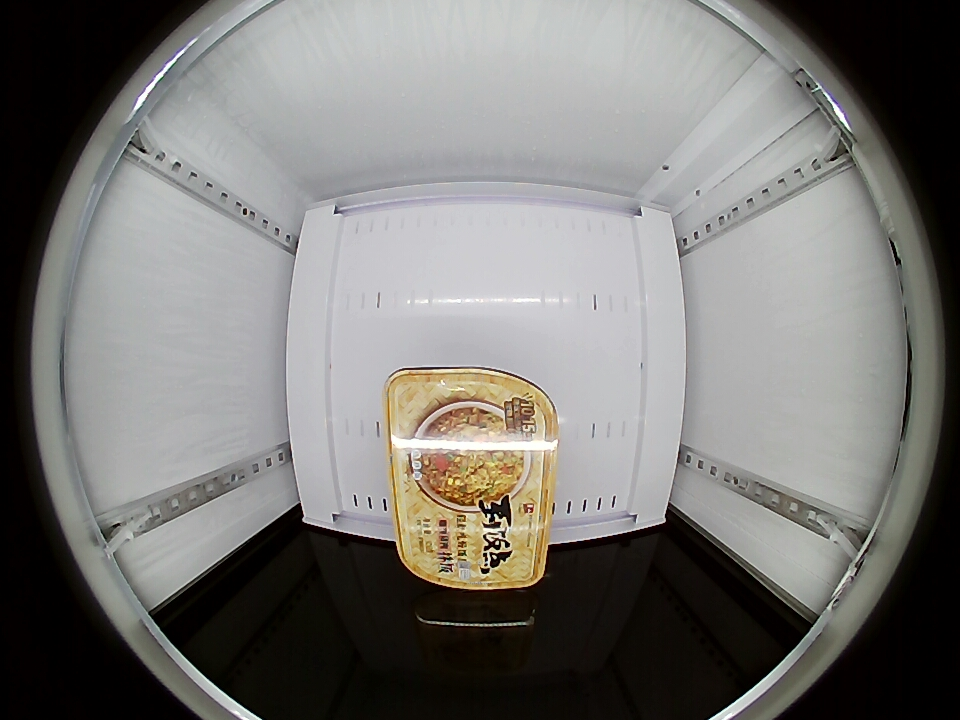daofandian3: (385, 364, 558, 592)
